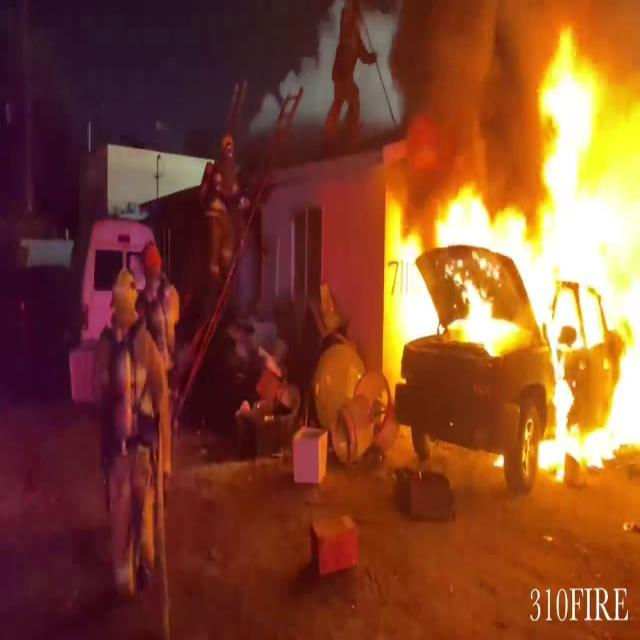Fire: (383, 20, 640, 475)
